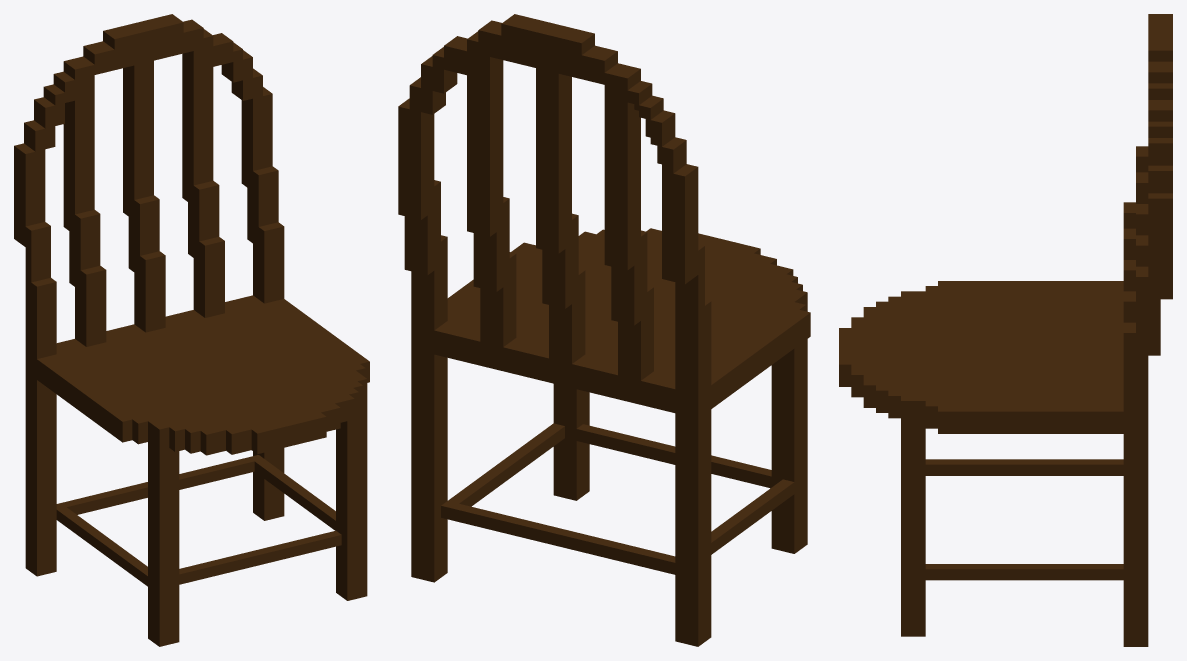
Rendered from Chaise.obj.
3 views of the same model, side by side, from view 1: azimuth 30°, elevation 25°; view 2: azimuth 150°, elevation 25°; view 3: azimuth 270°, elevation 25° (orthographic). The views are drawn at different scales.
Visible parts, largest first — view 1: Chaise; view 2: Chaise; view 3: Chaise.
Boxes of the visible parts, box(x1,y1,x2,y2) form: Chaise: box(14, 14, 369, 646); Chaise: box(398, 14, 810, 646); Chaise: box(839, 14, 1172, 646).
Bounding box in the file's own units: 25 × 49 × 27.
Materials: 1 (1 with a texture image).
